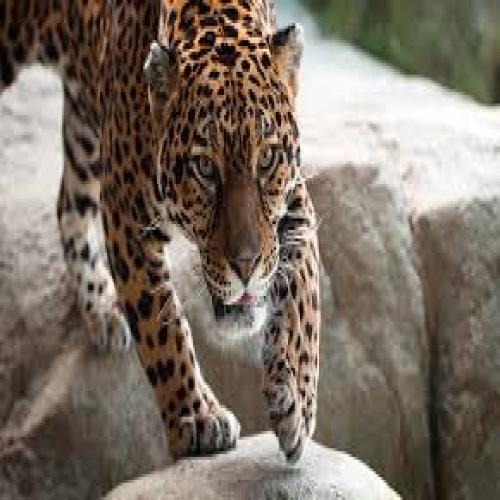jaguar_not-endangered: (64, 0, 320, 458)
